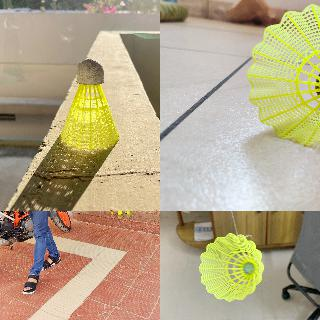shuttlecock: (244, 2, 319, 148), (60, 59, 118, 150), (198, 233, 264, 301), (124, 211, 130, 215)
